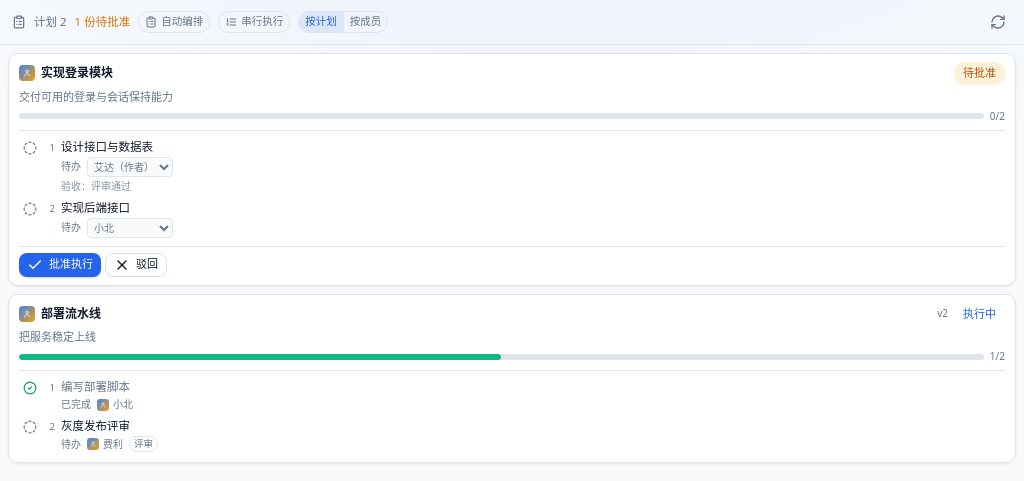
Test: TaskView 2.0（M24 计划板 / 待办清单双形态） › 按成员分组：展示「已规划 · 步骤 x/y」视角并可与按计划互切
This screenshot has width=1024, height=481.
Click the button "按成员". click: (365, 22)
box: [343,12,387,32]
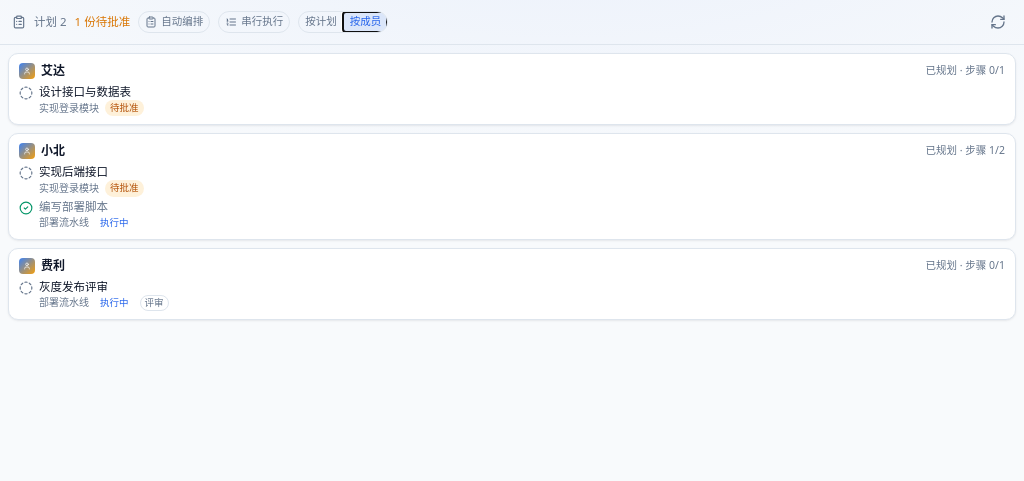
Check: the text "已规划 · 步骤 1/2" is shown, box [926,143,1005,159]
Check: the text "已规划 · 步骤 0/1" is shown 2 times, box [926,63,1005,79]; [926,258,1005,274]
Check: the text "艾达" is shown, box [41,62,65,80]
Click the button "按计划". click: (321, 22)
box: [299,12,343,32]
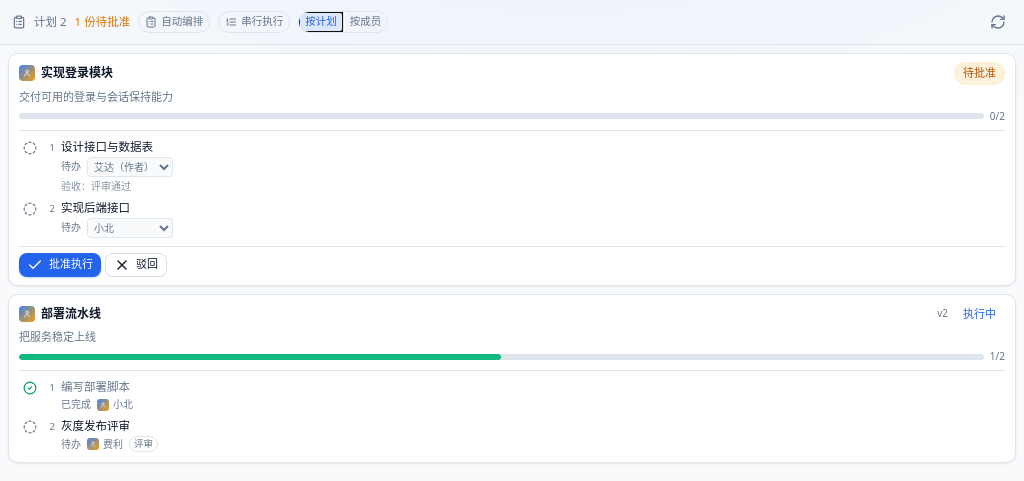
Check: the button "批准执行" is shown, box [19,252,101,276]
